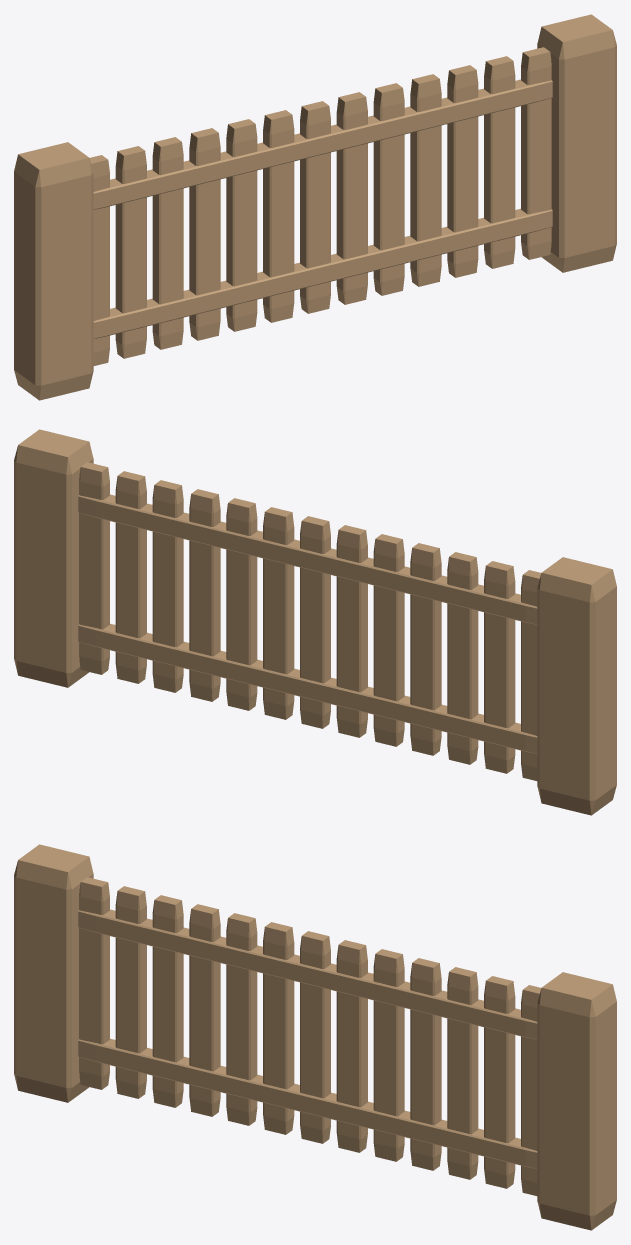
Rendered from b19_timber_post_cable_boundary.glb.
The picture shows the model from 3 angles, top to bottom: view 1: azimuth 30°, elevation 25°; view 2: azimuth 150°, elevation 25°; view 3: azimuth 330°, elevation 25°; orthographic projection.
Parts seen in each view (by area): view 1: b19_timber_post_cable_boundary; view 2: b19_timber_post_cable_boundary; view 3: b19_timber_post_cable_boundary.
Part boxes in pixels (bbox=[...]): b19_timber_post_cable_boundary: bbox=[14, 14, 616, 400]; b19_timber_post_cable_boundary: bbox=[14, 429, 616, 815]; b19_timber_post_cable_boundary: bbox=[14, 844, 616, 1230].
Size of the model in its own units: 3.24 by 1.23 by 0.24.
